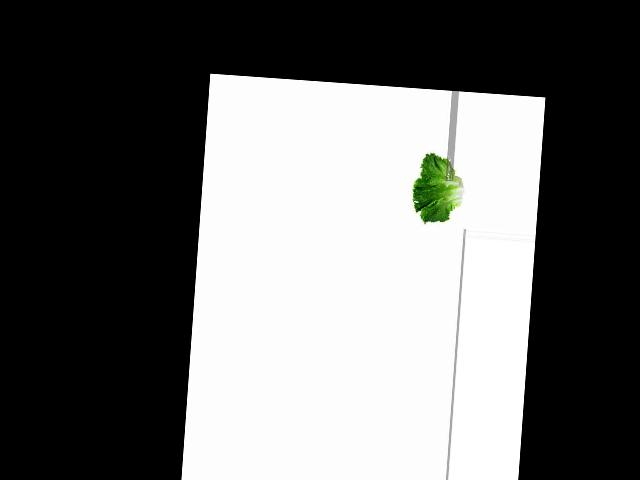lettuce: (411, 155, 466, 225)
